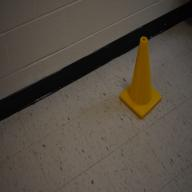cone: (120, 37, 162, 119)
